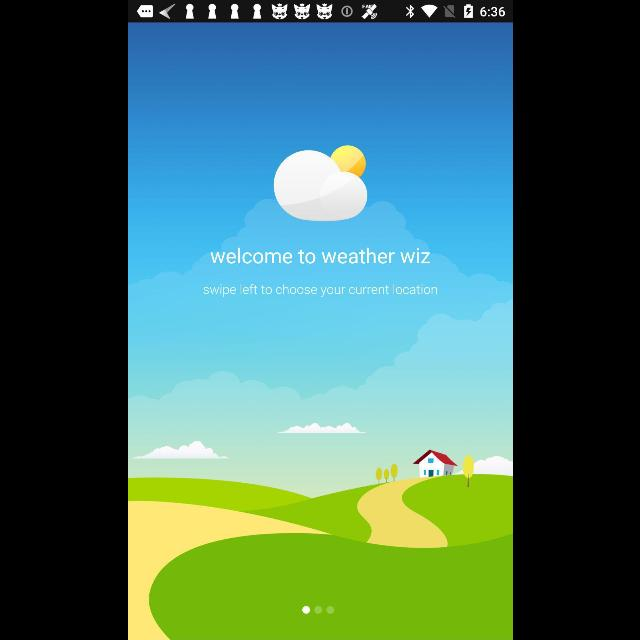backgroundimage: (128, 22, 512, 640)
image: (273, 146, 367, 222)
pageindicator: (302, 606, 334, 614)
text: (209, 248, 429, 264), (202, 284, 436, 298)
uppertaskbar: (128, 1, 512, 23)
